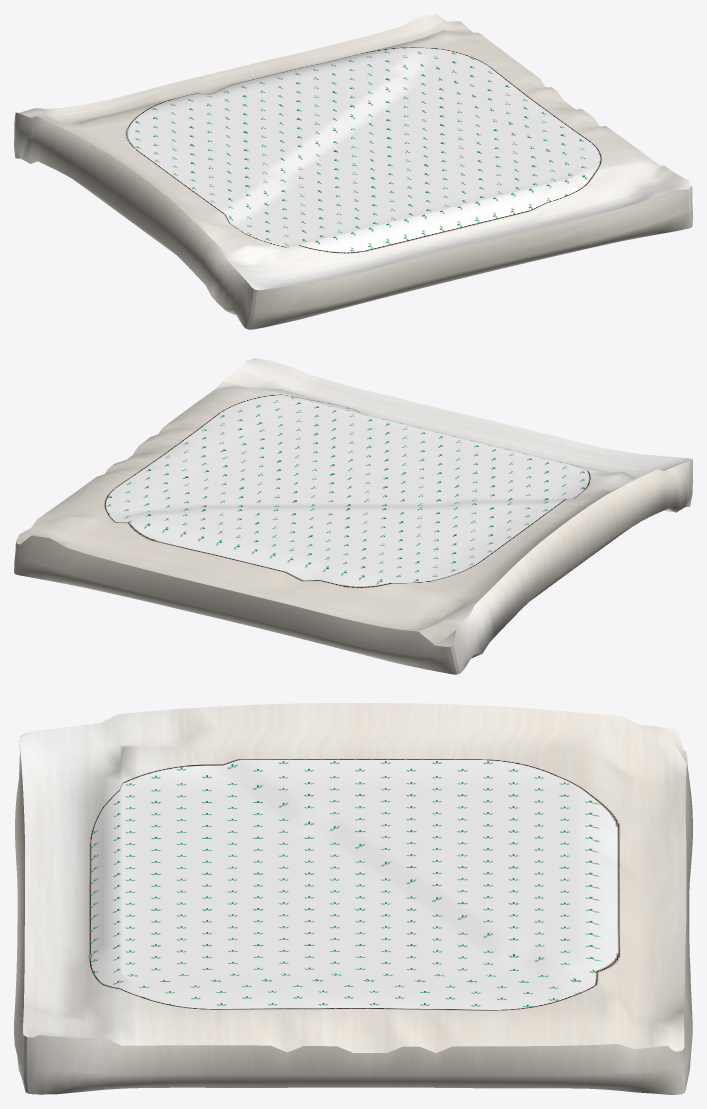
The model's file is cakebuton.FBX.
The picture shows the model from 3 angles, top to bottom: view 1: azimuth 30°, elevation 25°; view 2: azimuth 150°, elevation 25°; view 3: azimuth 270°, elevation 25°; orthographic projection. The views are drawn at different scales.
Parts seen in each view (by area): view 1: ofutolun; view 2: ofutolun; view 3: ofutolun.
Boxes of the visible parts, bbox=[...] form: ofutolun: bbox=[14, 14, 692, 329]; ofutolun: bbox=[14, 358, 692, 674]; ofutolun: bbox=[14, 703, 692, 1094].
Size of the model in its own units: 155 by 23.34 by 144.
